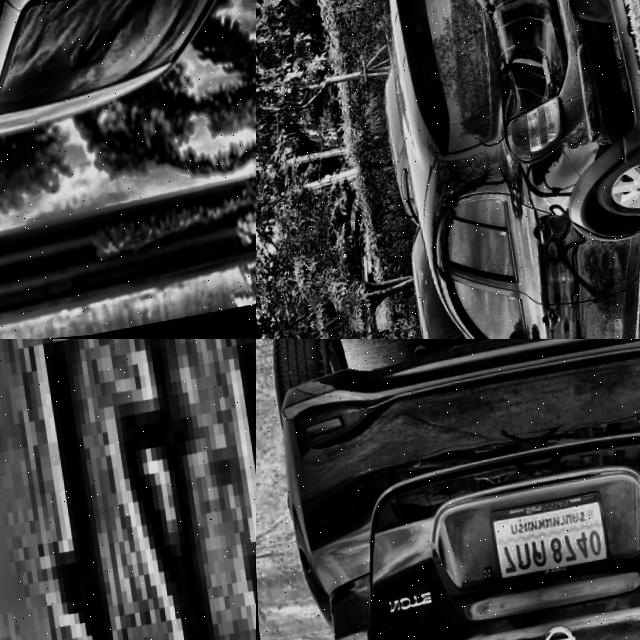license-plate: (0, 339, 256, 640), (487, 491, 610, 586), (609, 99, 640, 141), (256, 0, 290, 28)
